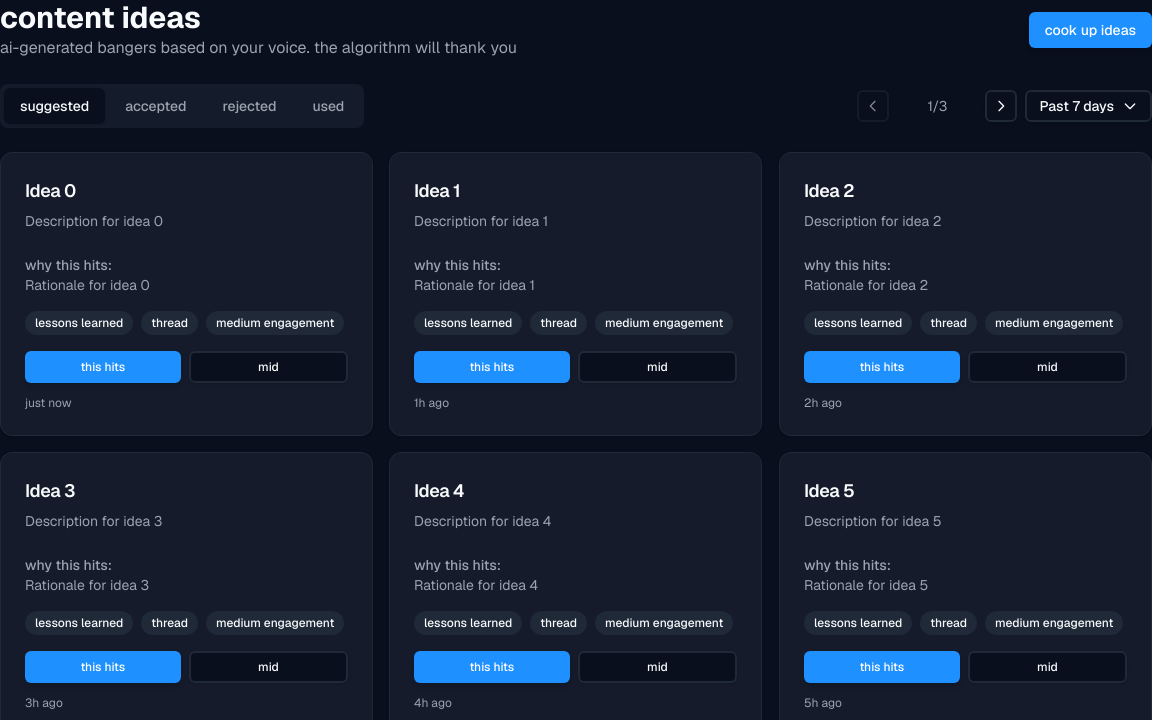
Scenario: Ideas Dashboard - Pagination Integration › Page Navigation › should disable next button on last page
# Navigate to last page (page 3)
Click the button named "Next page": coordinates (1001, 106) [985,90,1017,122]
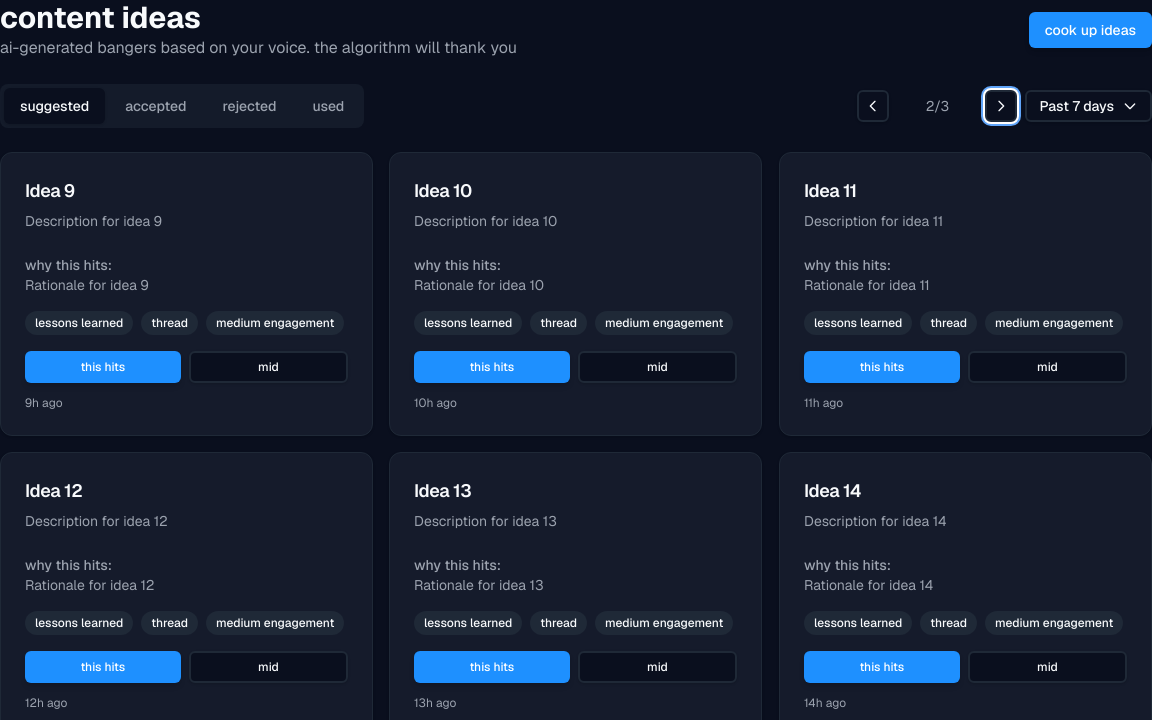
Click the button named "Next page": coordinates (1001, 106) [985,90,1017,122]
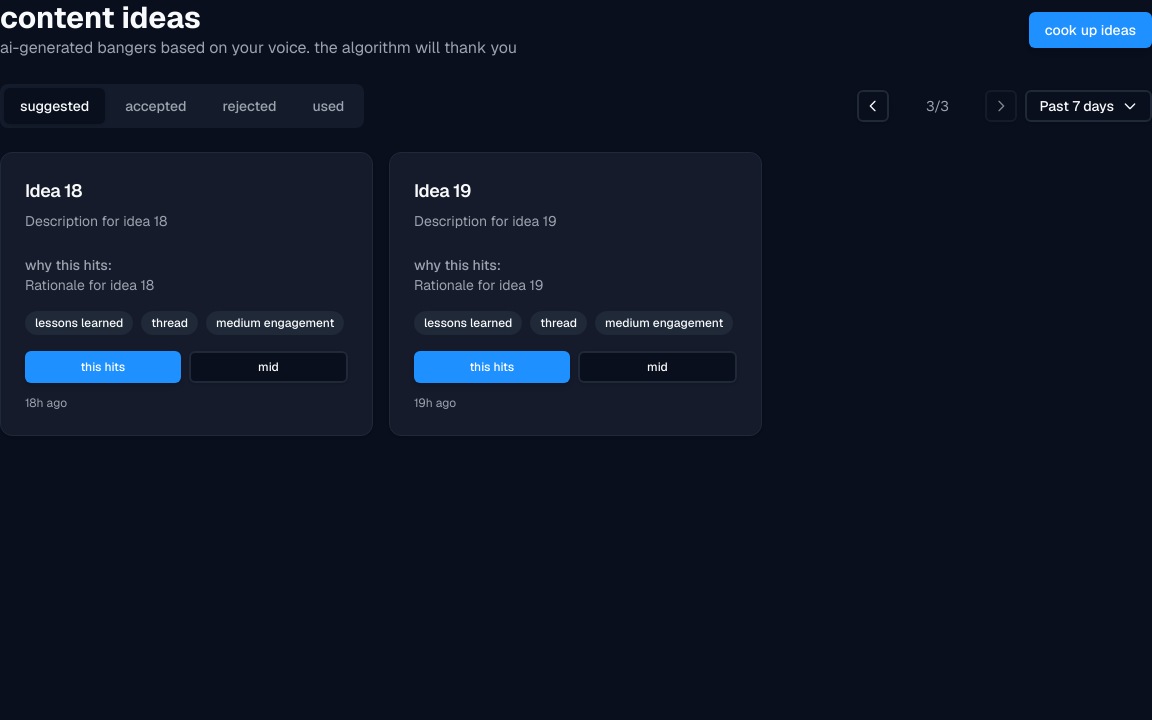
Expected: the text "3/3" is shown, [926,97,949,115]
